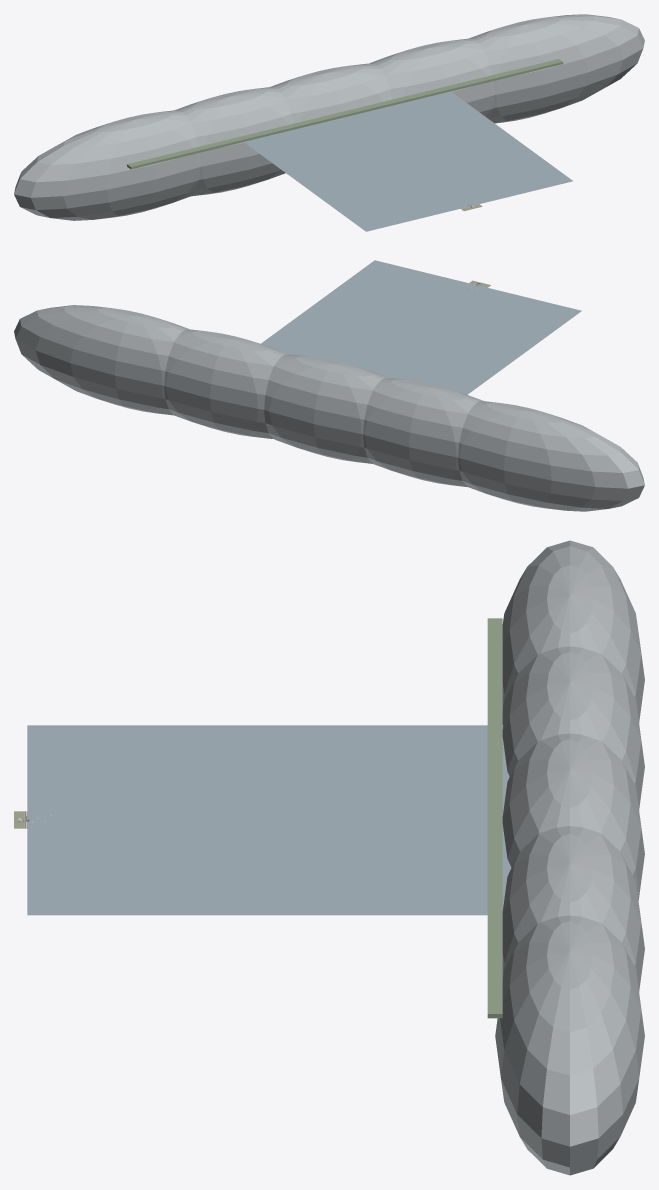
The picture shows the model from 3 angles, top to bottom: view 1: azimuth 30°, elevation 25°; view 2: azimuth 150°, elevation 25°; view 3: azimuth 270°, elevation 25°; orthographic projection. The views are drawn at different scales.
Visible parts, largest first — view 1: Lake_Water, FarHill_0, FarHill_4, FarHill_1, FarHill_3, FarHill_2, FarShore_Strip; view 2: Lake_Water, FarHill_0, FarHill_4, FarHill_3, FarHill_2, FarHill_1; view 3: Lake_Water, FarHill_4, FarHill_0, FarHill_2, FarHill_3, FarHill_1, FarShore_Strip.
Part boxes in pixels (bbox=[...]): Lake_Water: bbox=[244, 91, 573, 231]; FarHill_0: bbox=[14, 110, 200, 220]; FarHill_4: bbox=[469, 14, 644, 123]; FarHill_1: bbox=[175, 87, 293, 196]; FarHill_3: bbox=[369, 38, 494, 119]; FarHill_2: bbox=[270, 63, 392, 123]; FarShore_Strip: bbox=[127, 59, 563, 169]; Lake_Water: bbox=[261, 260, 581, 394]; FarHill_0: bbox=[458, 401, 644, 511]; FarHill_4: bbox=[14, 305, 189, 415]; FarHill_3: bbox=[164, 329, 288, 438]; FarHill_2: bbox=[264, 354, 388, 463]; FarHill_1: bbox=[363, 378, 484, 487]; Lake_Water: bbox=[27, 725, 511, 915]; FarHill_4: bbox=[495, 915, 644, 1175]; FarHill_0: bbox=[502, 540, 644, 722]; FarHill_2: bbox=[502, 733, 644, 900]; FarHill_3: bbox=[502, 826, 644, 991]; FarHill_1: bbox=[502, 646, 644, 809]; FarShore_Strip: bbox=[487, 618, 502, 1018].
Size of the model in its own units: 7300 by 1000 by 3370.
